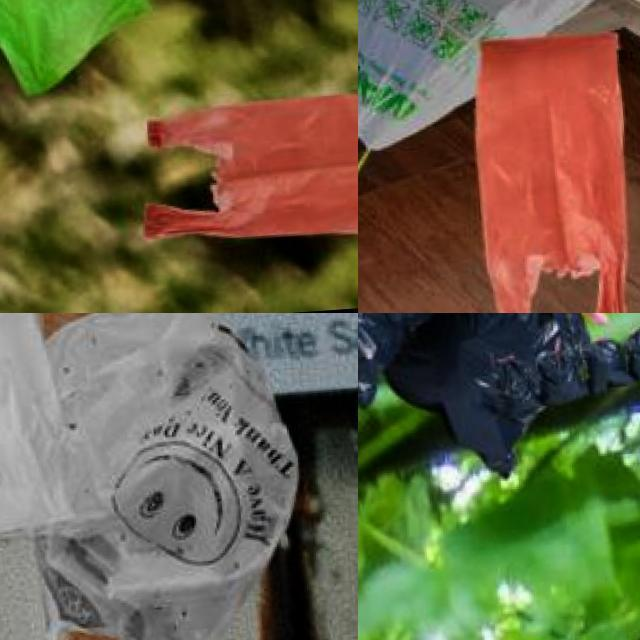waste: (20, 313, 314, 640), (481, 15, 631, 313), (358, 0, 603, 162), (384, 313, 601, 475), (134, 87, 358, 241), (0, 313, 113, 548), (0, 0, 155, 98), (482, 356, 538, 418), (533, 347, 588, 402), (583, 342, 627, 390), (624, 330, 640, 378)
